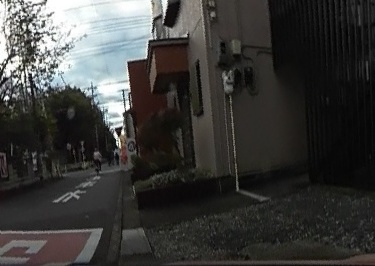person: (90, 148, 102, 175)
